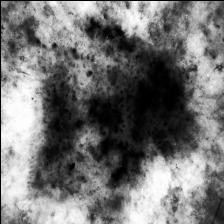Potentially Malignant Skin Tumors: (30, 42, 196, 198)
